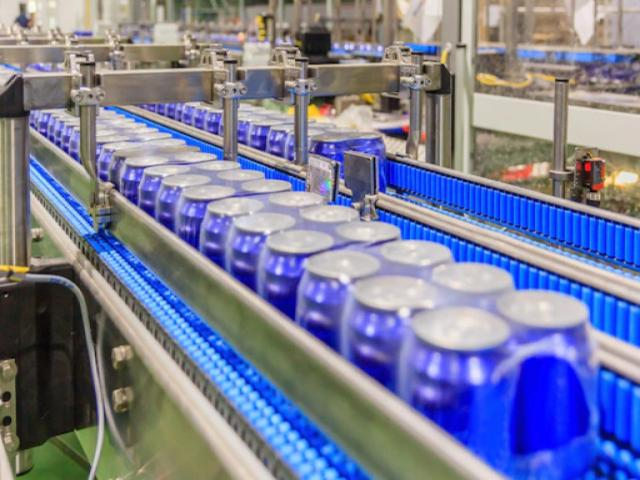conveyor: (14, 100, 640, 480)
